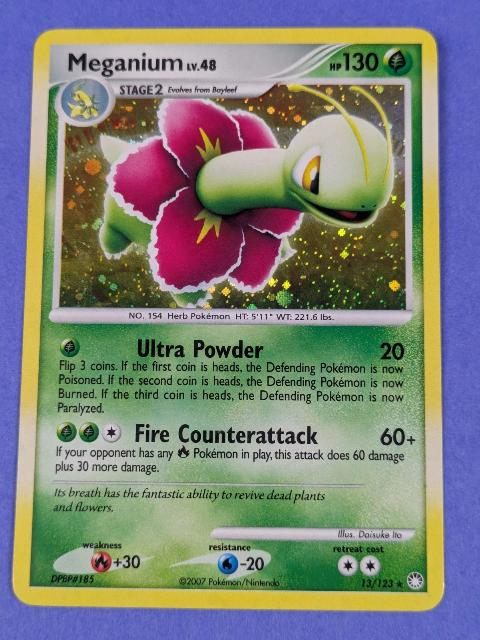Card: (5, 23, 452, 617)
Name: (62, 47, 186, 78)
